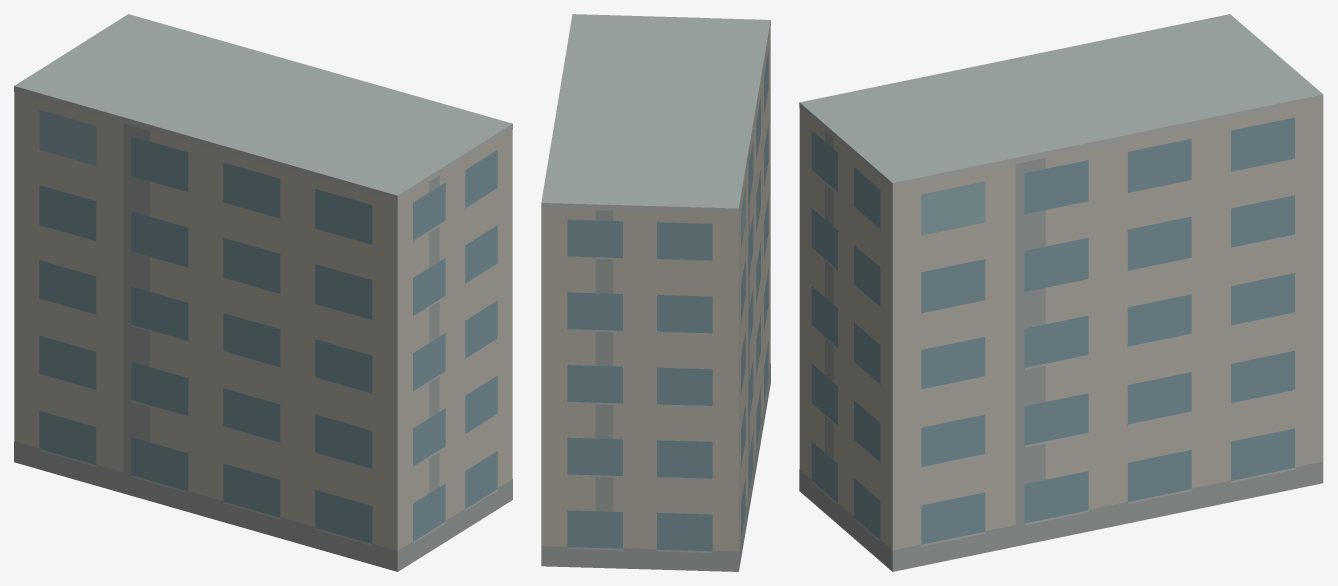
The model's file is survey-upis-32954309.glb.
3 views of the same model, side by side, from view 1: azimuth 30°, elevation 25°; view 2: azimuth 150°, elevation 25°; view 3: azimuth 270°, elevation 25° (orthographic). The views are drawn at different scales.
Parts seen in each view (by area): view 1: survey-upis-32954309.tmp; view 2: survey-upis-32954309.tmp; view 3: survey-upis-32954309.tmp.
Part boxes in pixels (x1,y1,x2,y2): survey-upis-32954309.tmp: (14,14,512,571); survey-upis-32954309.tmp: (541,14,770,571); survey-upis-32954309.tmp: (799,14,1323,571).
Size of the model in its own units: 14.47 by 15.5 by 18.94.
